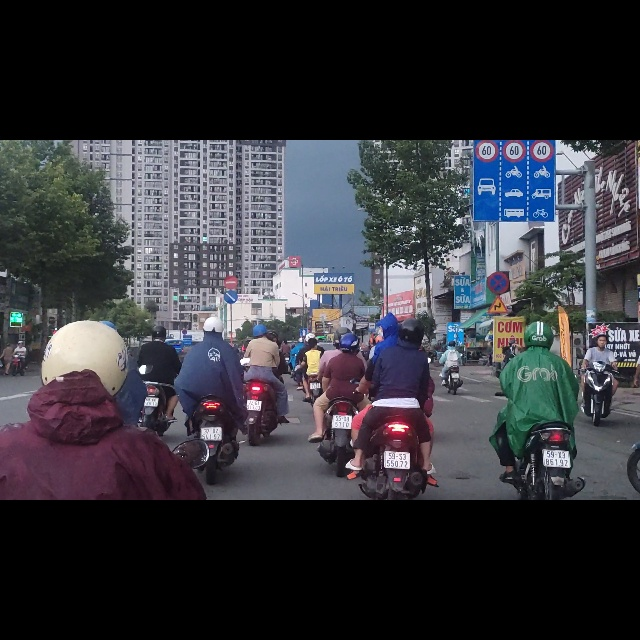bien_chi_dan: (473, 43, 555, 145), (529, 1, 555, 40), (487, 233, 510, 274), (503, 1, 526, 40), (475, 1, 498, 39), (488, 275, 508, 308), (224, 241, 238, 265), (224, 268, 238, 291), (368, 325, 376, 341), (300, 334, 307, 350)
